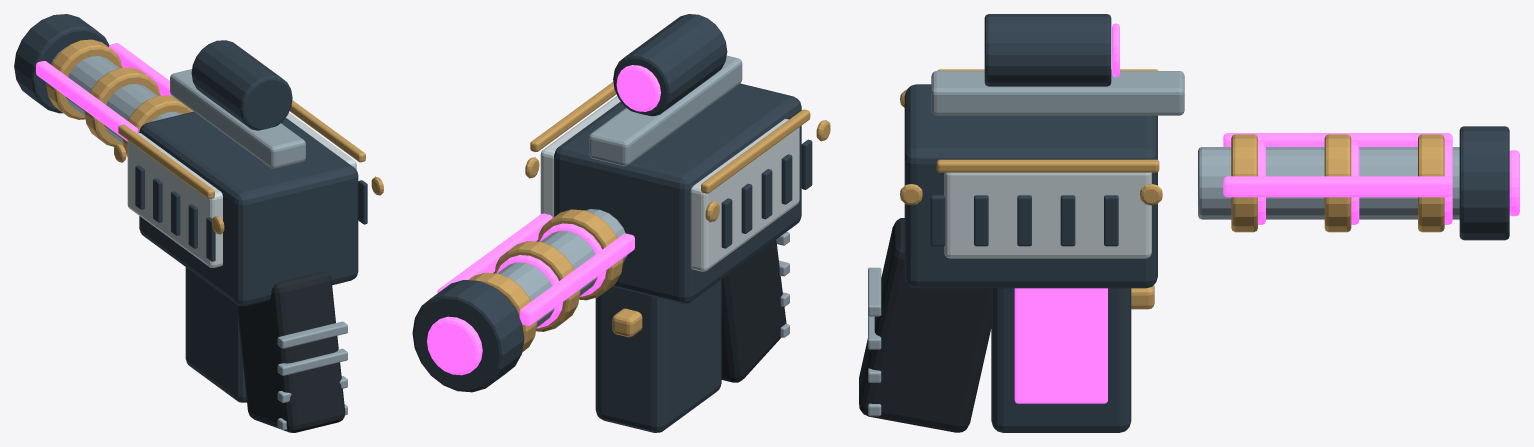
The model's file is smg.glb.
3 renders of one model, left to right at view 1: azimuth 30°, elevation 25°; view 2: azimuth 150°, elevation 25°; view 3: azimuth 270°, elevation 25°, orthographic. The views are drawn at different scales.
Visible parts, largest first — view 1: ZW4_smg; view 2: ZW4_smg; view 3: ZW4_smg.
Boxes of the visible parts, <box> form: ZW4_smg: <box>14,14,383,432</box>; ZW4_smg: <box>412,14,830,432</box>; ZW4_smg: <box>859,14,1519,432</box>.
Size of the model in its own units: 0.35 by 0.6654 by 0.9915.
